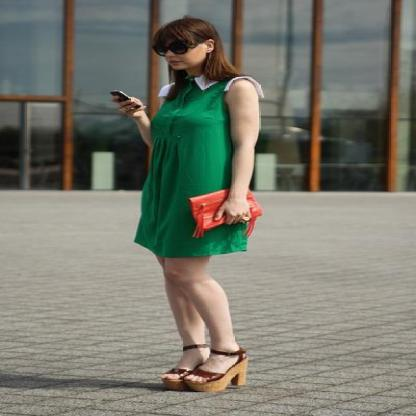bag: (189, 190, 236, 236)
dress: (134, 85, 248, 257)
jacket: (194, 76, 216, 90)
shoe: (162, 341, 238, 393)
sunglass: (168, 33, 192, 54)
